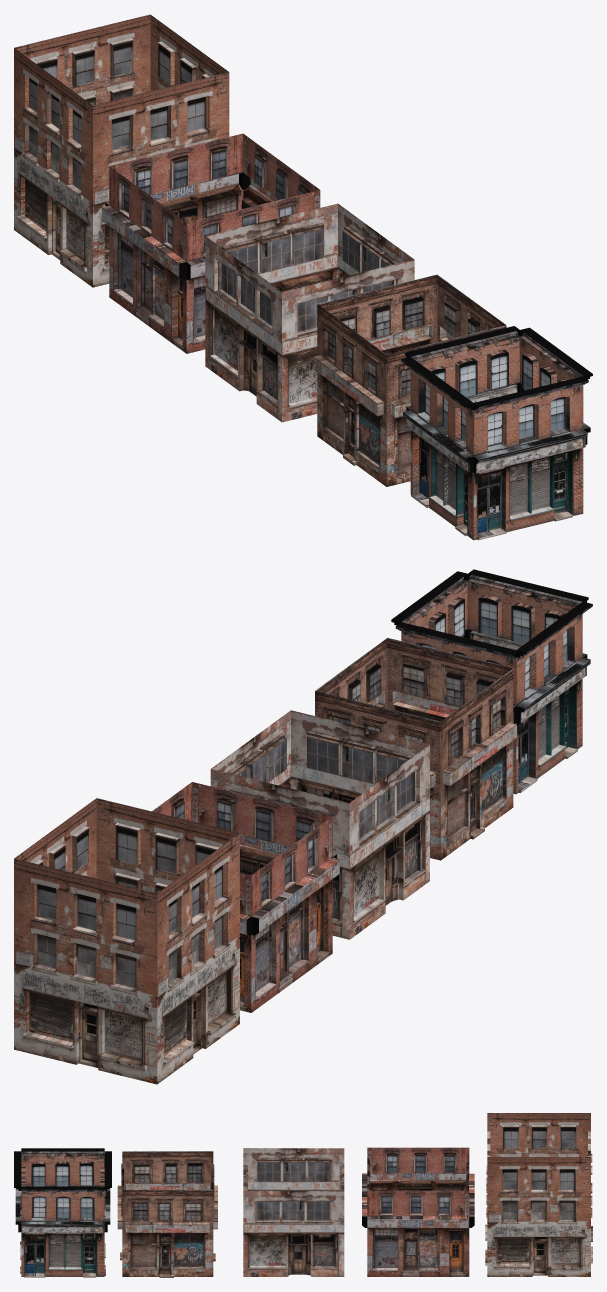
The picture shows the model from 3 angles, top to bottom: view 1: azimuth 30°, elevation 25°; view 2: azimuth 150°, elevation 25°; view 3: azimuth 270°, elevation 25°; orthographic projection. The views are drawn at different scales.
Parts seen in each view (by area): view 1: building 1.001, building 5.002, building 5.001, building 4.002, Building 3.002, building 2.002, building 1.002, building 5.003, building 4.003, Building 3.003, Building 3.001, building 2.003 (+8 smaller); view 2: building 5.003, building 5.002, building 4.002, Building 3.002, building 2.002, building 1.002, building 5.001, Building 3.001, building 2.001, building 4.001, building 1.001, Building 3.003 (+8 smaller); view 3: building 5, building 4, Building 3, building 2, building 1, building 5.002, building 4.002, Building 3.002, building 2.002, building 1.002, building 1.001, building 1.003 (+6 smaller).
Boxes of the visible parts, x1,y1,x2,y2 form: building 1.001: (473, 376, 588, 540); building 5.002: (14, 48, 92, 287); building 5.001: (93, 72, 229, 287); building 4.002: (102, 166, 186, 353); Building 3.002: (205, 236, 281, 421); building 2.002: (314, 304, 386, 486); building 1.002: (400, 357, 473, 539); building 5.003: (14, 14, 150, 105); building 4.003: (105, 133, 243, 222); Building 3.003: (206, 203, 337, 291); Building 3.001: (282, 259, 414, 422); building 2.003: (317, 274, 437, 354); building 5.003: (14, 858, 157, 1084); building 5.002: (157, 833, 239, 1083); building 4.002: (251, 816, 339, 1012); Building 3.002: (349, 744, 429, 939); building 2.002: (440, 669, 516, 860); building 1.002: (516, 602, 592, 793); building 5.001: (96, 798, 239, 893); Building 3.001: (291, 710, 429, 802); building 2.001: (387, 638, 512, 721); building 4.001: (192, 782, 336, 953); building 1.001: (467, 569, 588, 658); Building 3.003: (210, 769, 349, 939); building 5: (487, 1157, 590, 1276); building 4: (367, 1190, 469, 1276); Building 3: (243, 1191, 344, 1276); building 2: (122, 1190, 213, 1277); building 1: (21, 1186, 104, 1277); building 5.002: (487, 1113, 590, 1156); building 4.002: (367, 1147, 469, 1190); Building 3.002: (243, 1148, 344, 1190); building 2.002: (122, 1151, 213, 1189); building 1.002: (21, 1148, 104, 1186); building 1.001: (14, 1151, 25, 1273); building 1.003: (100, 1151, 111, 1275).
Bounding box in the file's own units: 7.7 × 8.91 × 38.9.
10 materials, 10 textured.
